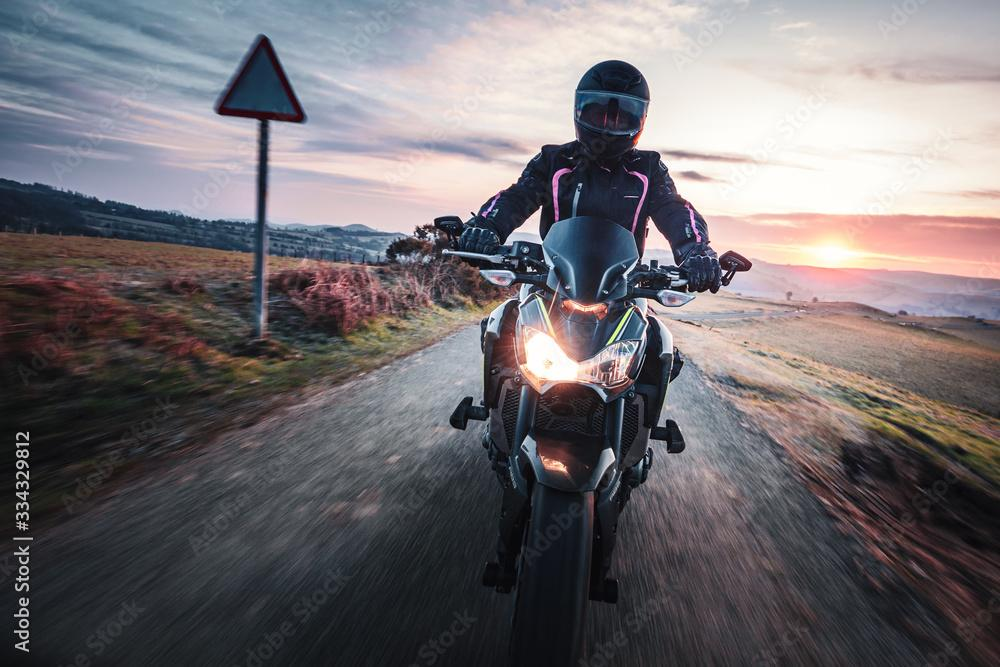helmet: (572, 59, 651, 161)
